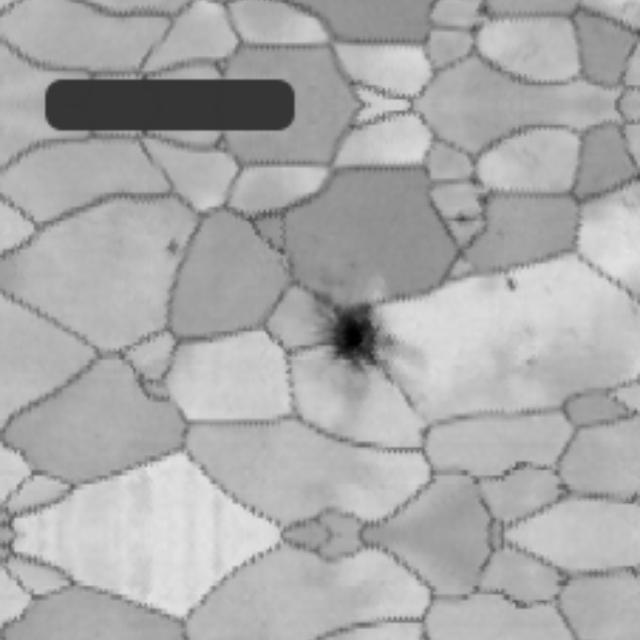good_void: (317, 302, 396, 380), (493, 272, 526, 301), (164, 236, 182, 262)
